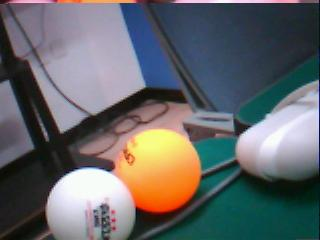oball: (118, 130, 202, 211)
